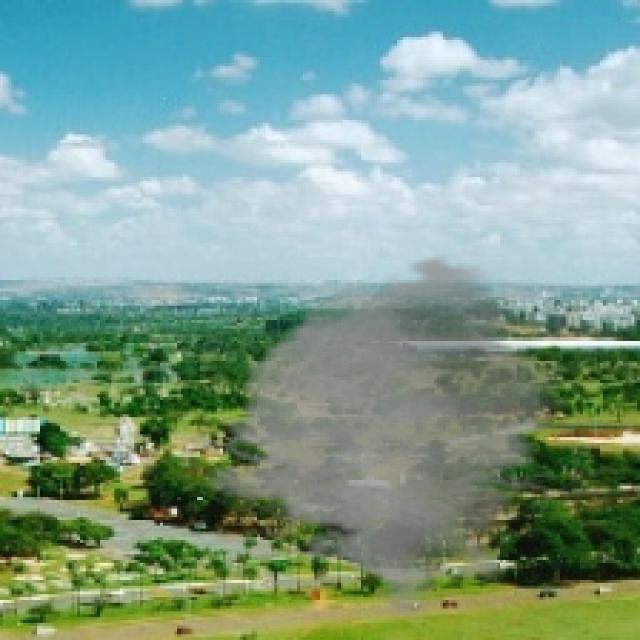smoke: (189, 254, 600, 620)
